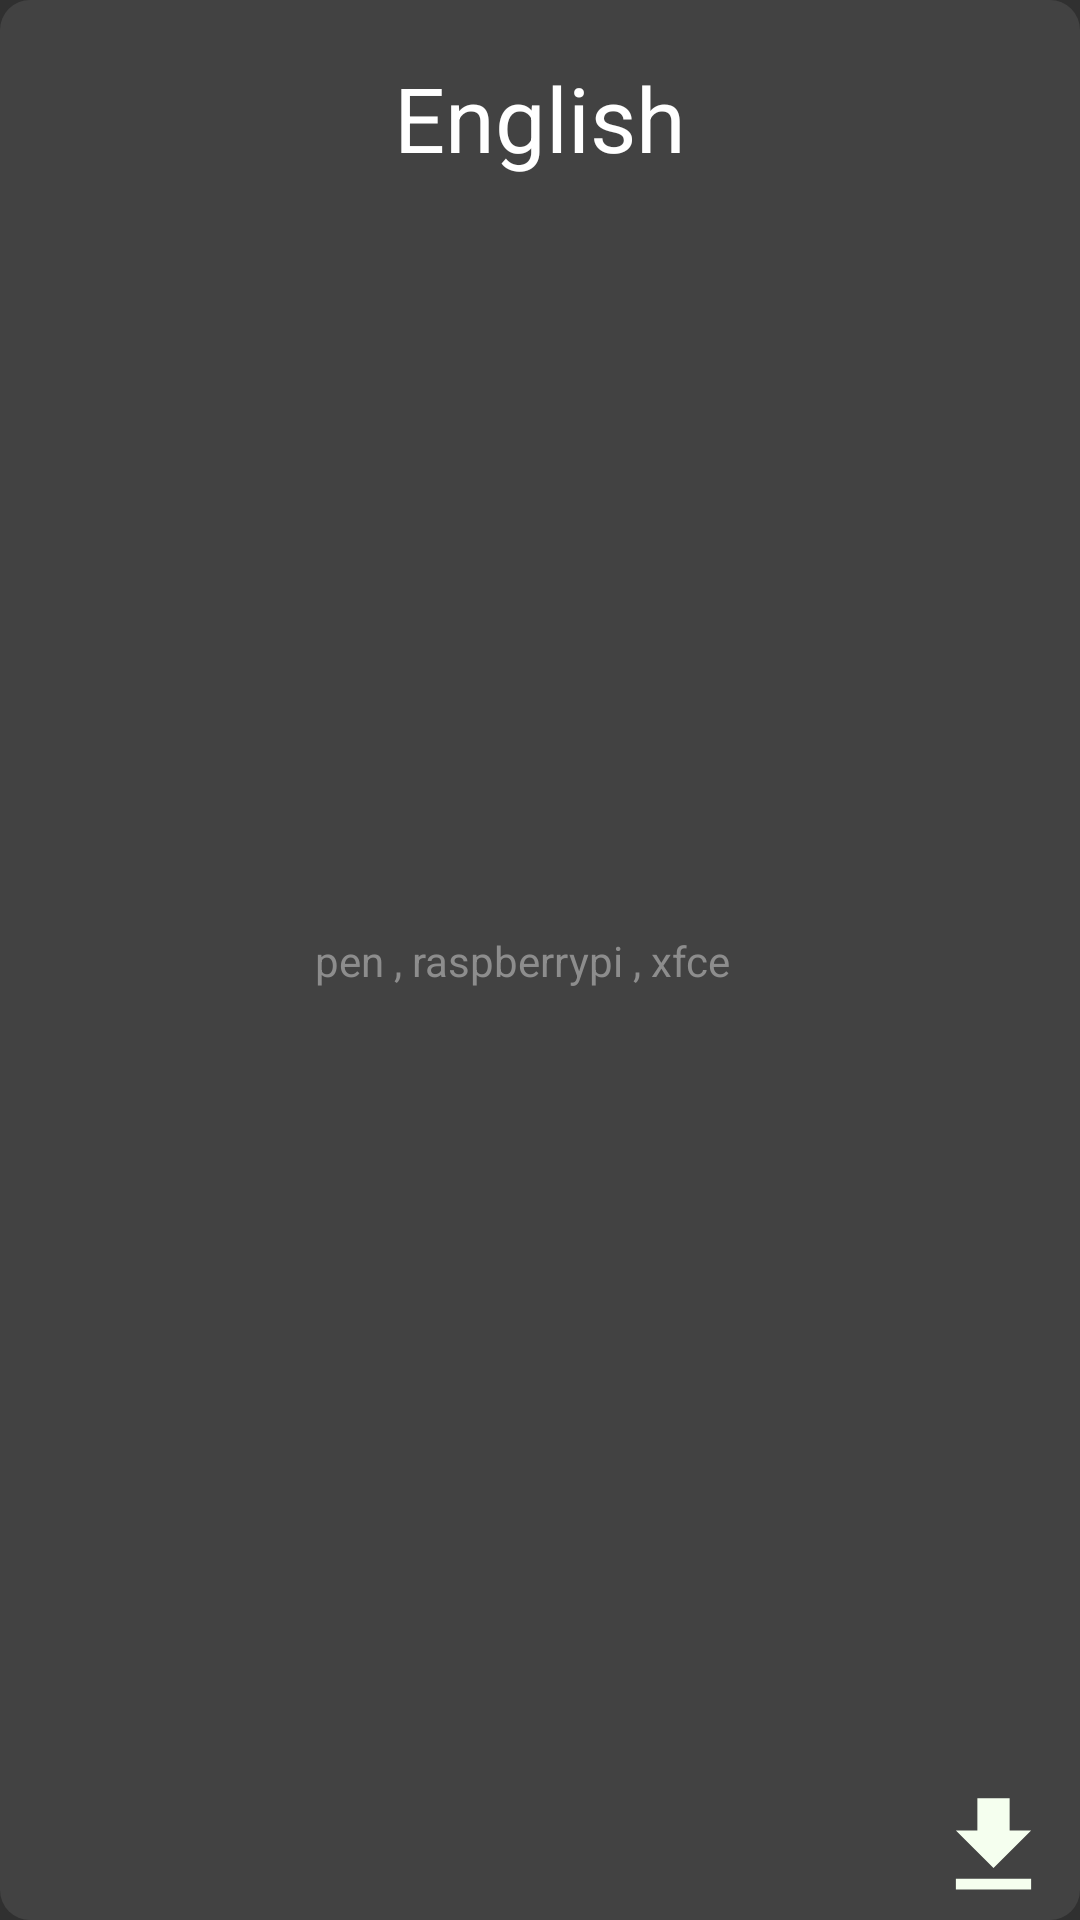

Point at icon controls on the screen. Image size 1080×1920, points as [x,y].
download: [993,1844]
